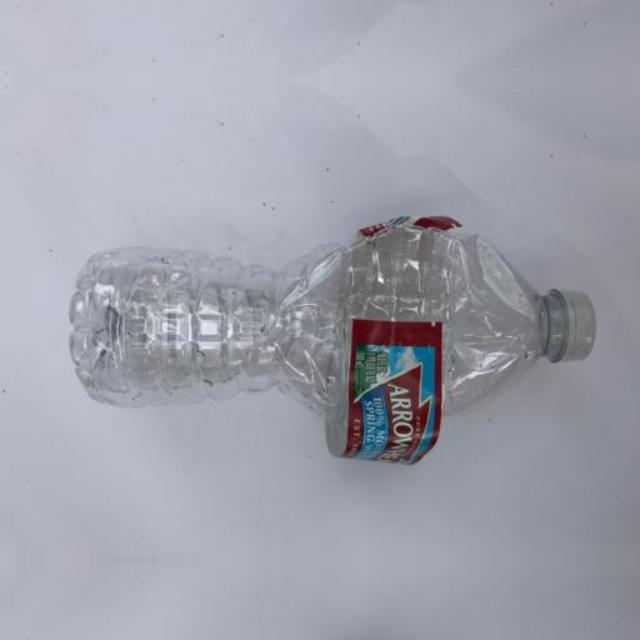Plastic: (63, 204, 607, 480)
